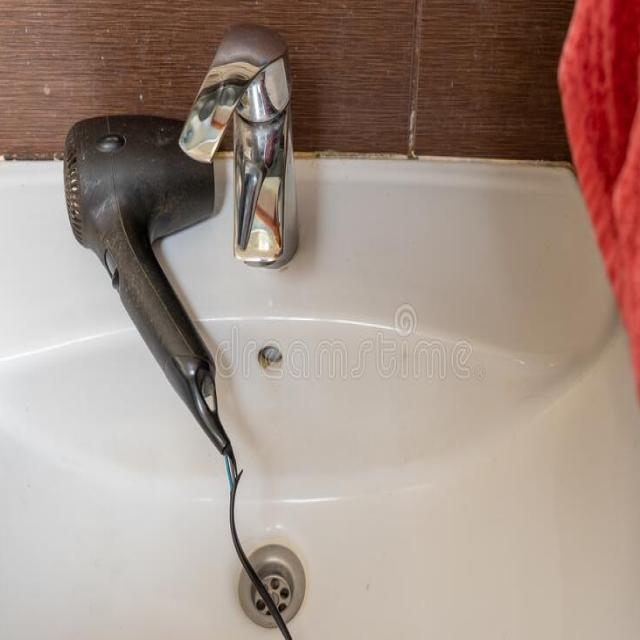dryer: (50, 99, 268, 508)
